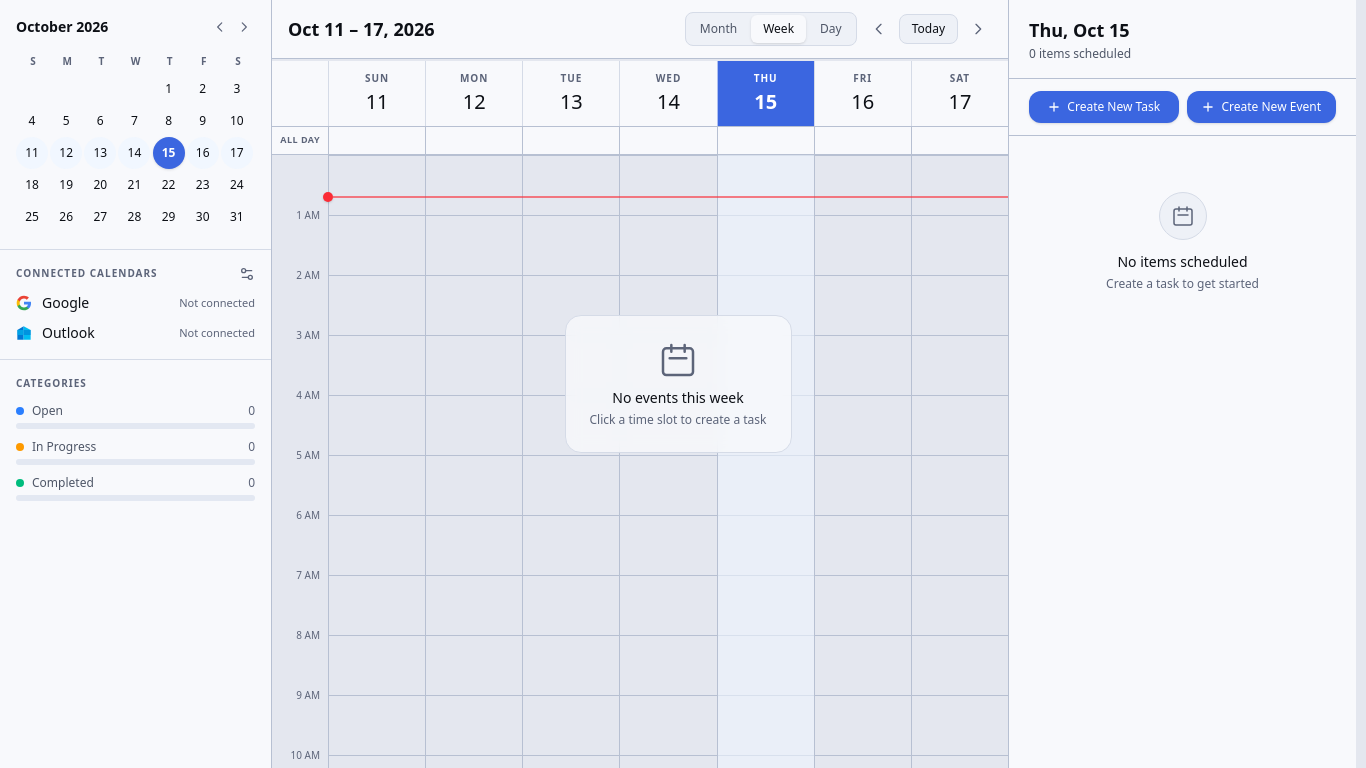
Test case: Calendar › never marks Google connected from a live check-auth, and writes no connection flag
The image size is (1366, 768).
Click the button named "Calendar settings" at x=247, y=274, box [235,262,259,286]
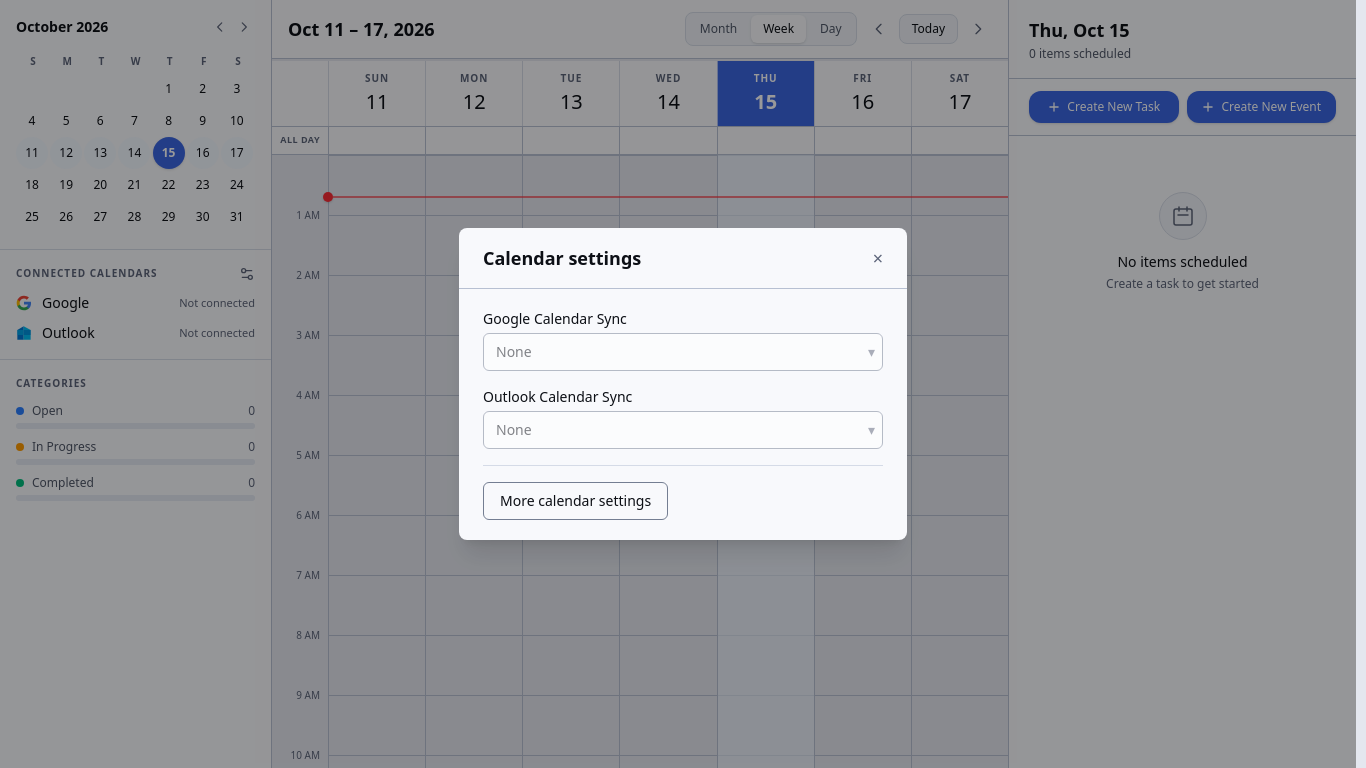
Expected: the button named "Google Calendar Sync" is disabled, [483,333,883,371]
